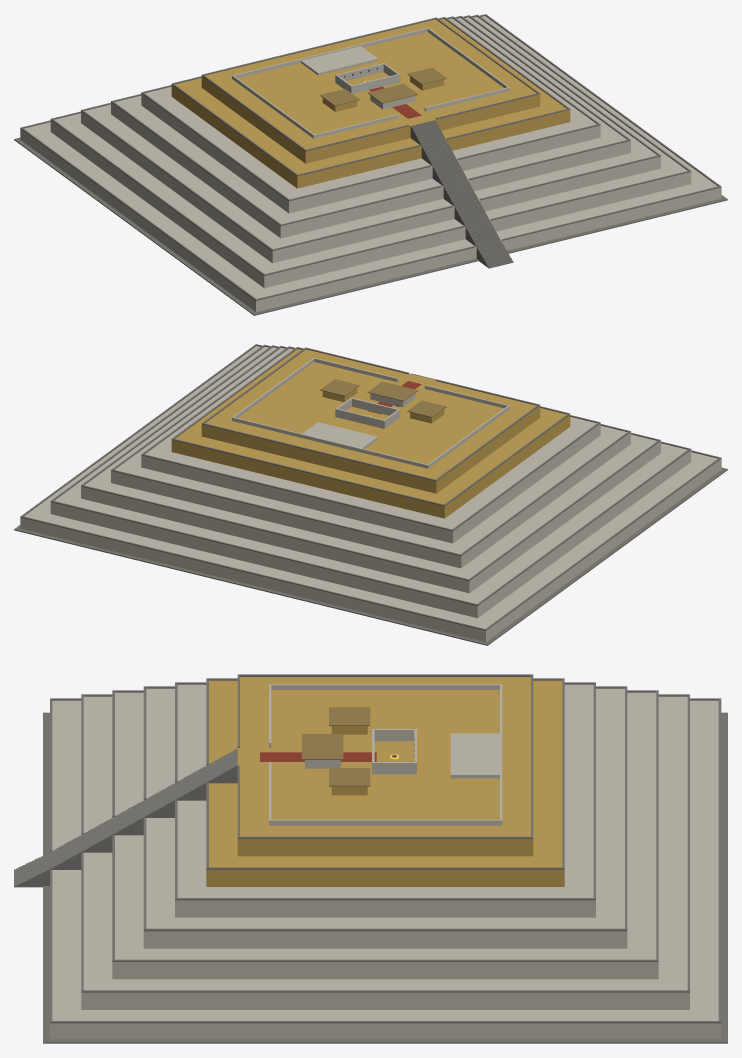
The model's file is caral_pyramide_mayor.glb.
The picture shows the model from 3 angles, top to bottom: view 1: azimuth 30°, elevation 25°; view 2: azimuth 150°, elevation 25°; view 3: azimuth 270°, elevation 25°; orthographic projection. The views are drawn at different scales.
Visible parts, largest first — view 1: GEO-Caral_PyramideMayor_LOD0; view 2: GEO-Caral_PyramideMayor_LOD0; view 3: GEO-Caral_PyramideMayor_LOD0.
Boxes of the visible parts, x1,y1,x2,y2 form: GEO-Caral_PyramideMayor_LOD0: [14, 14, 727, 315]; GEO-Caral_PyramideMayor_LOD0: [14, 344, 727, 645]; GEO-Caral_PyramideMayor_LOD0: [14, 674, 727, 1043].
Size of the model in its own units: 174 by 32.68 by 159.
